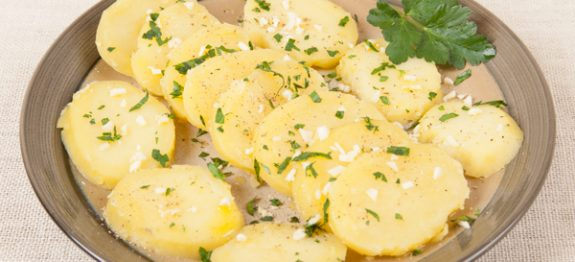boiled potatoes: (69, 1, 509, 258)
